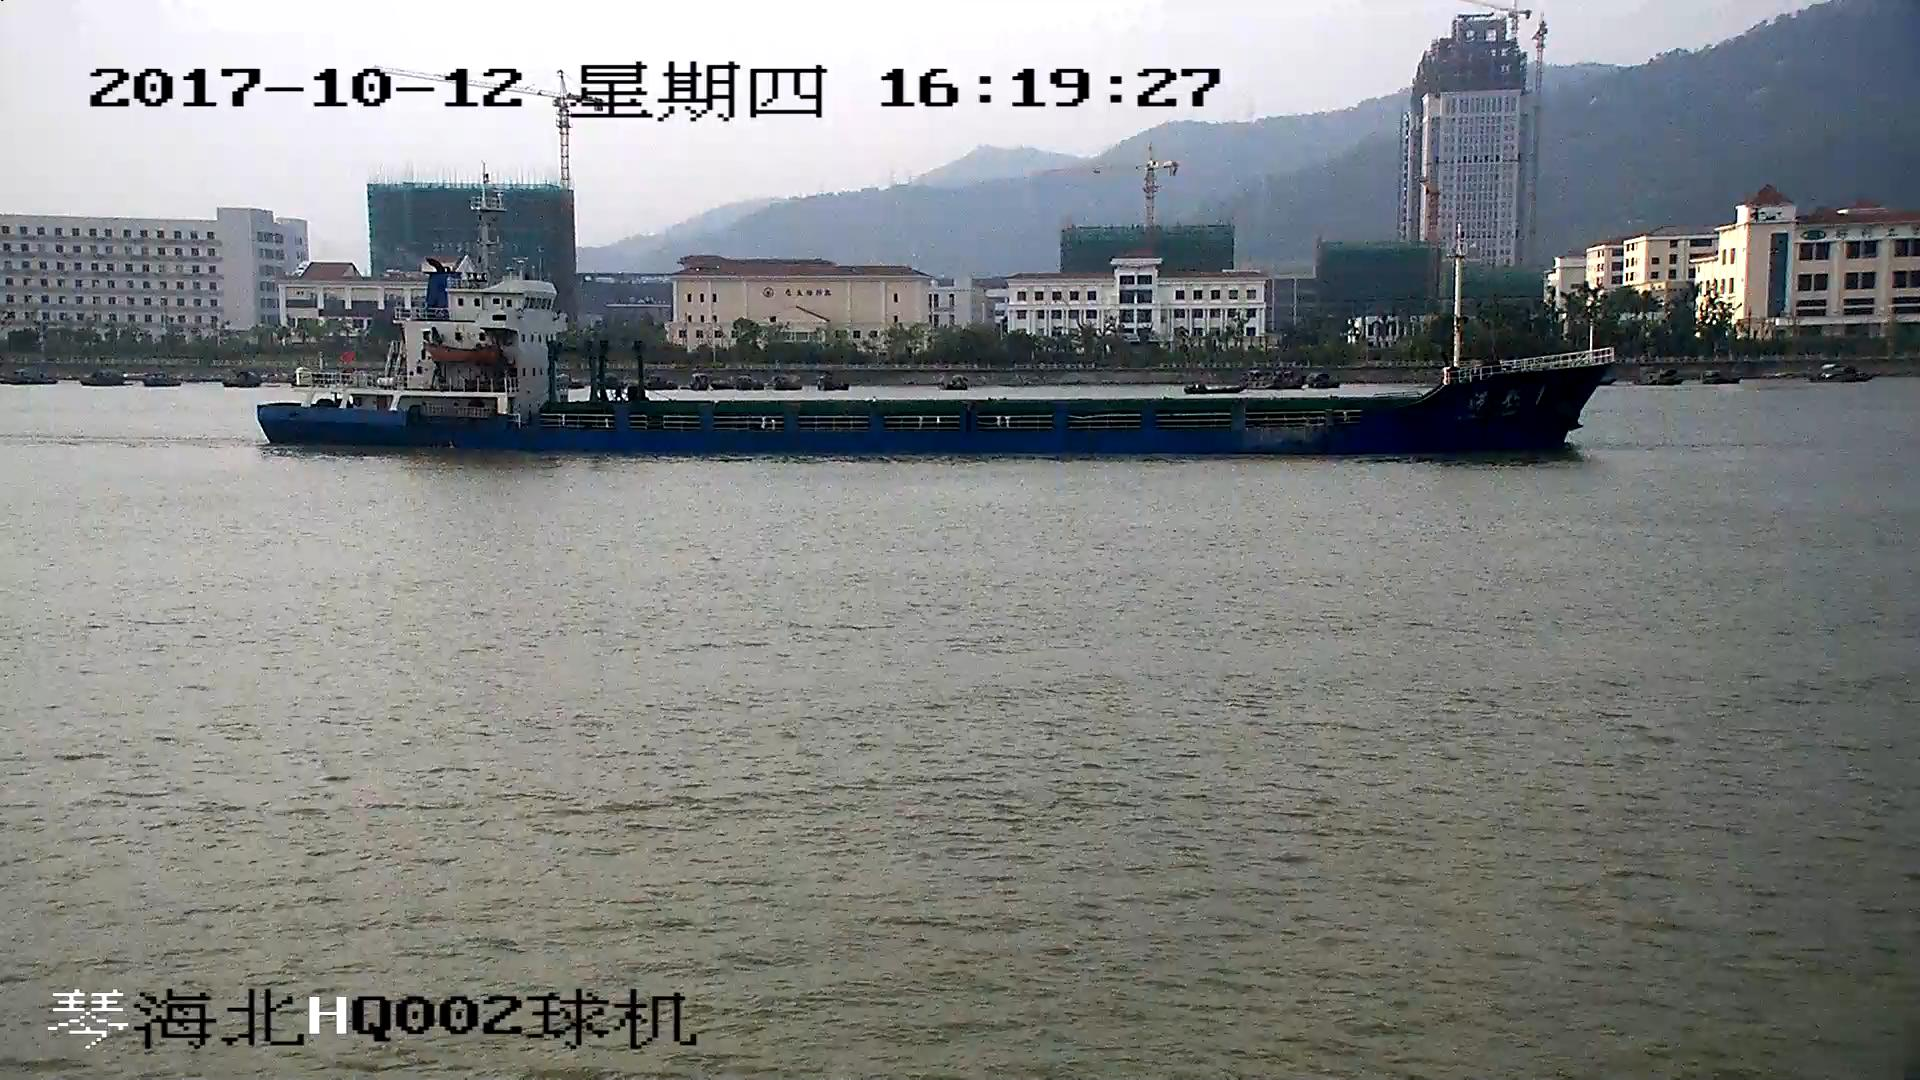general cargo ship: (252, 184, 1616, 463)
